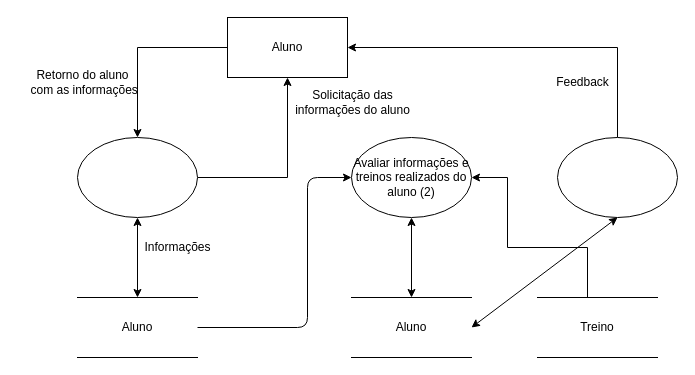
This 695x375 diagram has some shape labels left out. Each missing label, with the centre of its shape:
"Coletar informações do aluno (1)" belongs at [137,177].
"Devolver feedback ao aluno (3)" belongs at [617,177].
